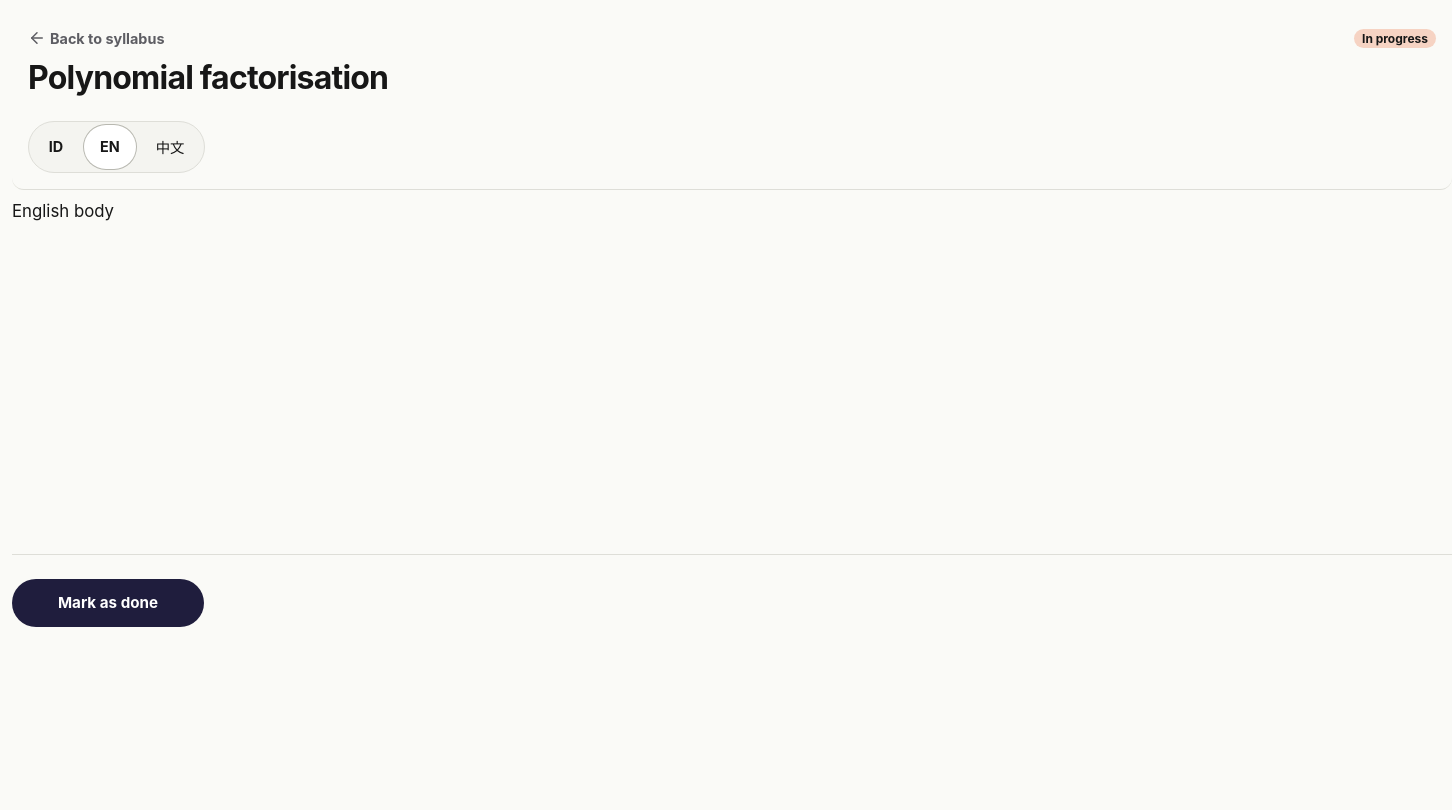
Test case: language toggle reloads requested language without silent fallback on unavailable
The image size is (1452, 810).
Check: the text "English body" is shown, box [12, 201, 114, 221]
Click the button "中文". click: (170, 147)
box: [140, 125, 200, 169]
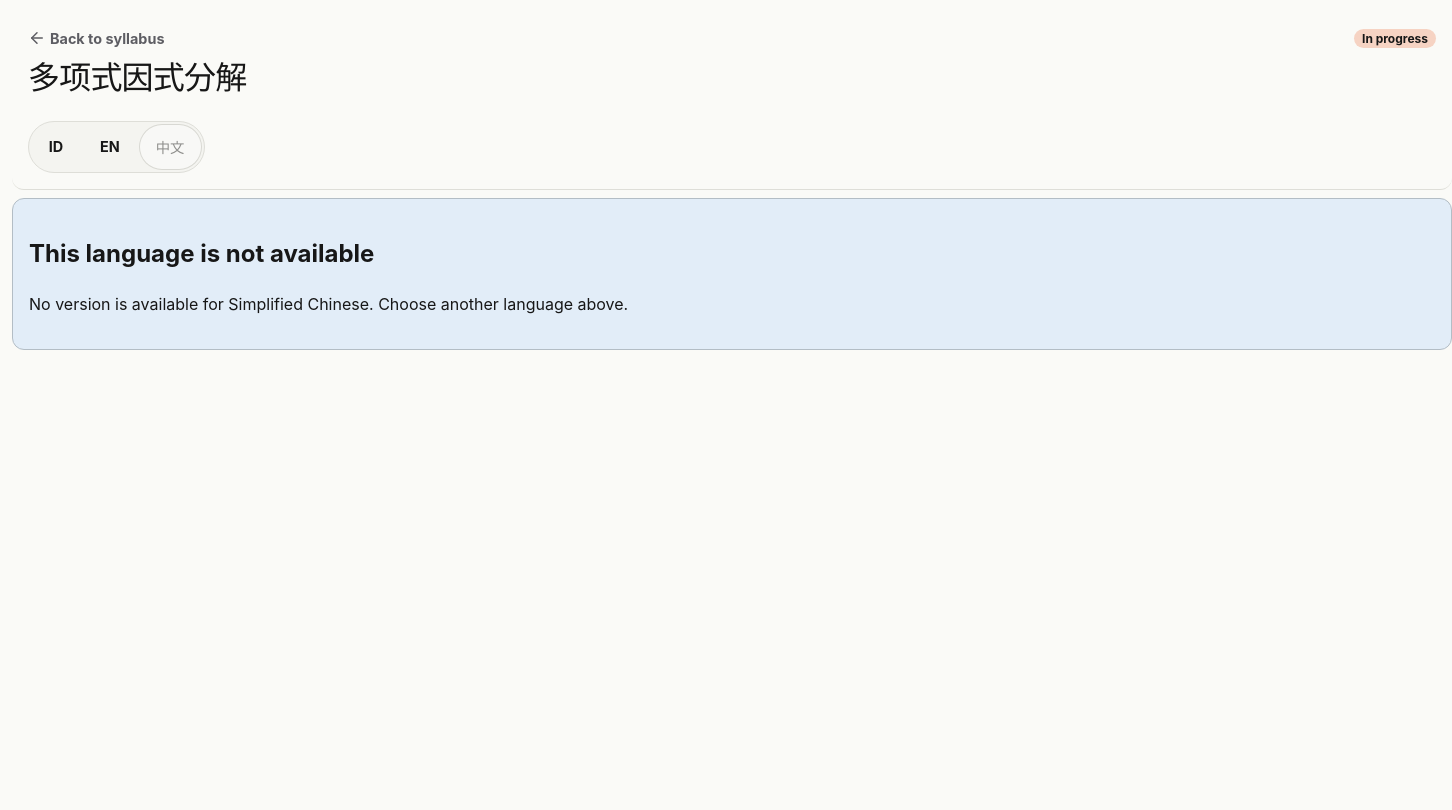
Check: the heading "This language is not available" is shown, box [29, 239, 374, 268]
Check: the text "English body" is gone
